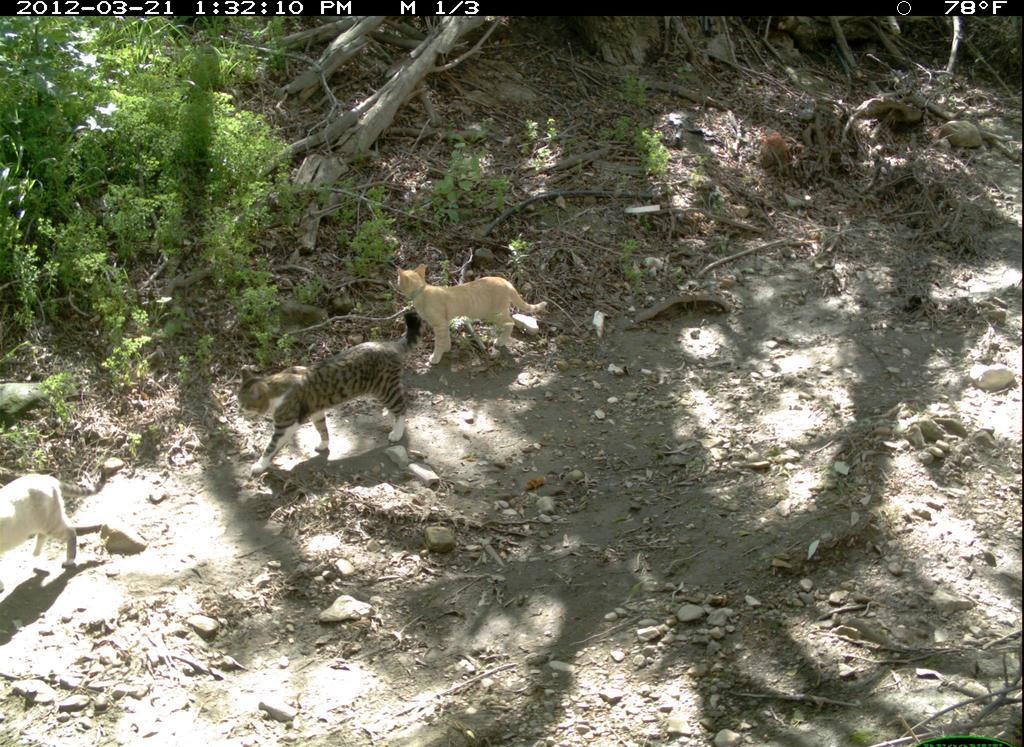cat: (231, 308, 428, 482), (392, 257, 559, 367), (1, 461, 108, 606)
